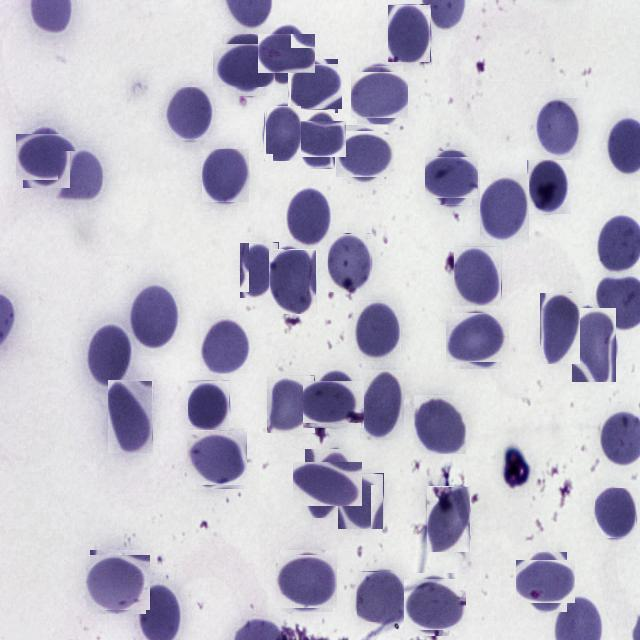red blood cell: (88, 552, 148, 612), (478, 174, 528, 243), (278, 552, 336, 610), (188, 430, 246, 488), (108, 380, 153, 453), (572, 308, 616, 382), (299, 455, 356, 512), (407, 576, 464, 633), (414, 394, 467, 454), (449, 310, 505, 366), (269, 249, 317, 314), (360, 370, 404, 440), (130, 285, 178, 349), (19, 130, 74, 184), (306, 378, 361, 432), (200, 317, 252, 374), (427, 486, 471, 552), (454, 246, 502, 306), (535, 98, 582, 159), (86, 322, 130, 387), (540, 293, 580, 364), (218, 38, 270, 92), (355, 300, 401, 361), (267, 375, 315, 433), (284, 187, 330, 246), (339, 128, 391, 180), (354, 69, 406, 121), (520, 556, 572, 608), (328, 233, 372, 292), (202, 148, 250, 202), (165, 88, 213, 142), (338, 473, 384, 529), (290, 61, 340, 111), (357, 571, 406, 622), (388, 4, 431, 62), (527, 160, 571, 214), (262, 30, 311, 78), (58, 151, 104, 202), (293, 115, 341, 163), (428, 154, 476, 202), (240, 242, 279, 298), (264, 105, 302, 161), (188, 380, 230, 430), (595, 488, 636, 538)
